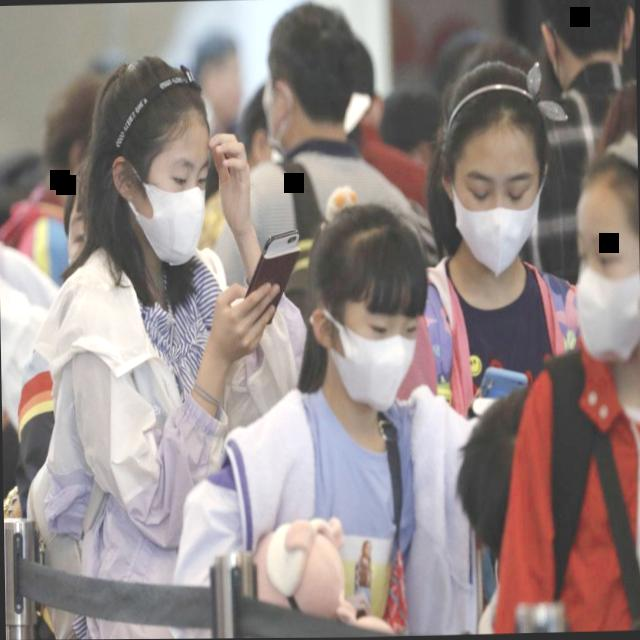Mask: (85, 41, 222, 277), (292, 196, 438, 417), (432, 56, 564, 283), (570, 130, 640, 380)
